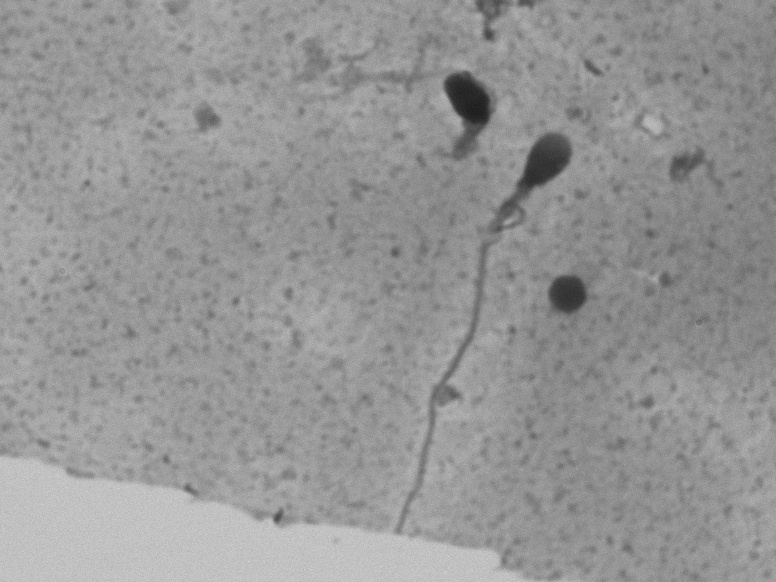Abnormal: (372, 114, 587, 514)
